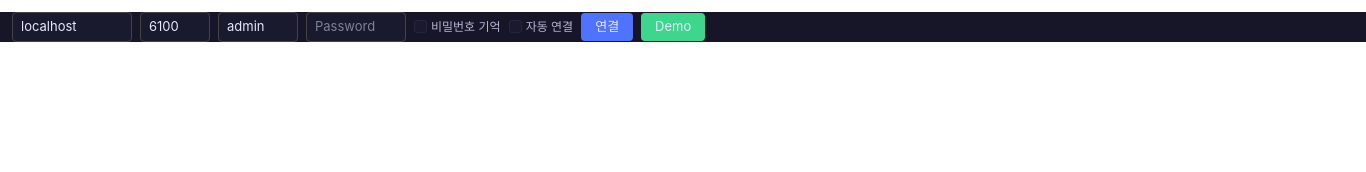
Test: ConnectionDialog — 비밀번호 기억 › 자동 연결을 켜면 «기억» 도 켜진다
Expected: the checkbox labelled "비밀번호 기억" is not checked, [414,20,427,33]
Click the checkbox labelled "자동 연결". click: coordinates (515, 27)
box: [509,20,522,33]
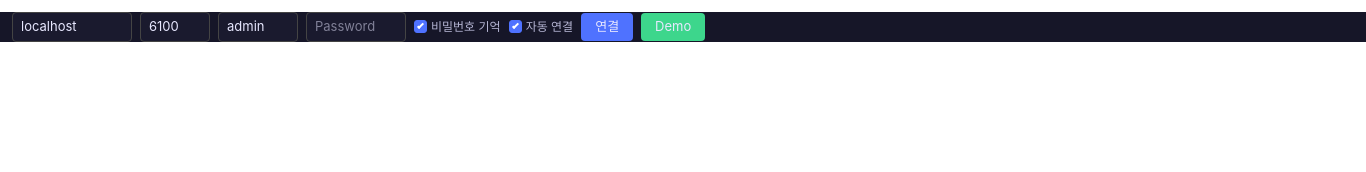
Expected: the checkbox labelled "비밀번호 기억" is checked, [414,20,427,33]
